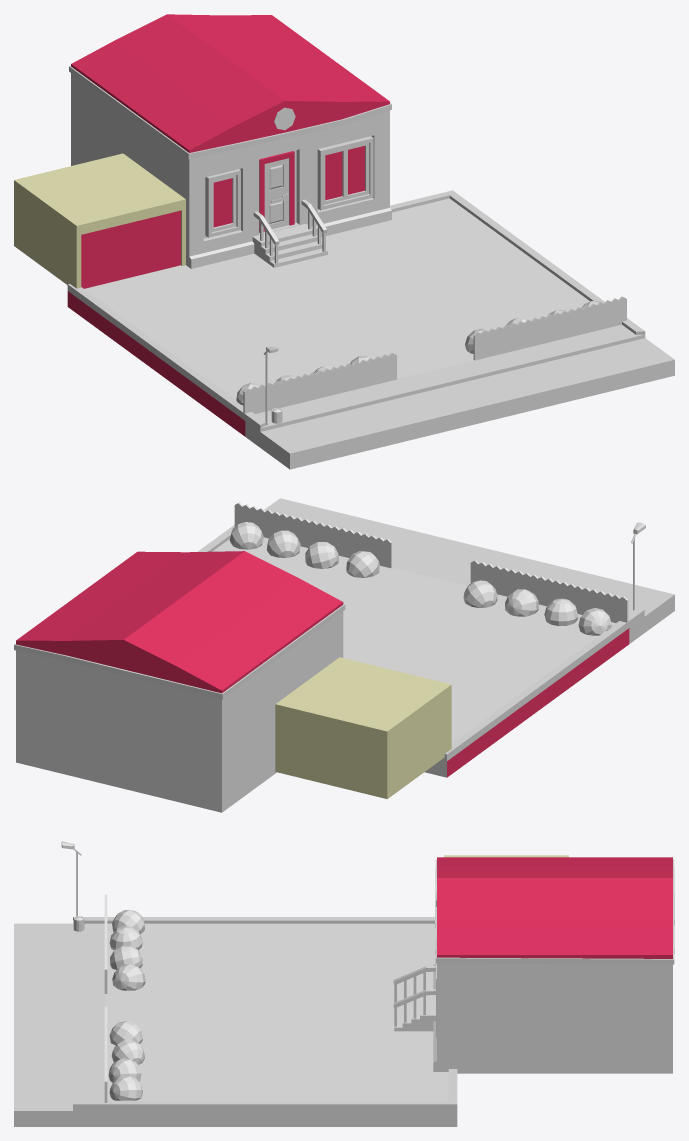
The model's file is mesh_01_01_enviro.fbx.
The picture shows the model from 3 angles, top to bottom: view 1: azimuth 30°, elevation 25°; view 2: azimuth 150°, elevation 25°; view 3: azimuth 270°, elevation 25°; orthographic projection. The views are drawn at different scales.
Visible parts, largest first — view 1: Porte, Cube.009, Cube.004, Cube.005, Cube.002, Cube.003, Cube.007, Cube.006, Cube.008, Cube; view 2: Porte, Cube.004, Cube.009, Cube.005, Cube.003, Cube.002, Sphere.001, Sphere.004, Sphere, Sphere.005, Sphere.002, Sphere.006 (+2 smaller); view 3: Porte, Cube.004, Cube.009, Cube, Sphere.004, Sphere, Sphere.005, Sphere.002, Sphere.006, Sphere.003, Sphere.001, Sphere.007 (+2 smaller).
Part boxes in pixels (x1,y1,x2,y2): Porte: [67, 190, 674, 469]; Cube.009: [69, 14, 391, 158]; Cube.004: [71, 73, 391, 268]; Cube.005: [14, 153, 185, 288]; Cube.002: [473, 296, 626, 360]; Cube.003: [243, 352, 396, 413]; Cube.007: [317, 136, 373, 210]; Cube.006: [259, 151, 294, 232]; Cube.008: [205, 169, 240, 237]; Cube: [252, 223, 327, 267]; Porte: [197, 498, 674, 777]; Cube.004: [16, 611, 343, 812]; Cube.009: [14, 551, 345, 699]; Cube.005: [275, 657, 451, 799]; Cube.003: [470, 560, 628, 622]; Cube.002: [234, 502, 391, 568]; Sphere.001: [267, 530, 300, 557]; Sphere.004: [463, 580, 497, 607]; Sphere: [229, 522, 263, 549]; Sphere.005: [505, 589, 538, 616]; Sphere.002: [305, 542, 338, 568]; Sphere.006: [544, 598, 578, 625]; Porte: [14, 917, 457, 1126]; Cube.004: [433, 963, 672, 1073]; Cube.009: [435, 857, 674, 964]; Cube: [394, 989, 435, 1031]; Sphere.004: [112, 964, 145, 990]; Sphere: [109, 1075, 142, 1100]; Sphere.005: [110, 945, 142, 970]; Sphere.002: [111, 1039, 144, 1064]; Sphere.006: [109, 926, 142, 950]; Sphere.003: [109, 1021, 142, 1045]; Sphere.001: [108, 1058, 141, 1082]; Sphere.007: [112, 910, 144, 933].
Size of the model in its own units: 5167 by 2090 by 7703.
